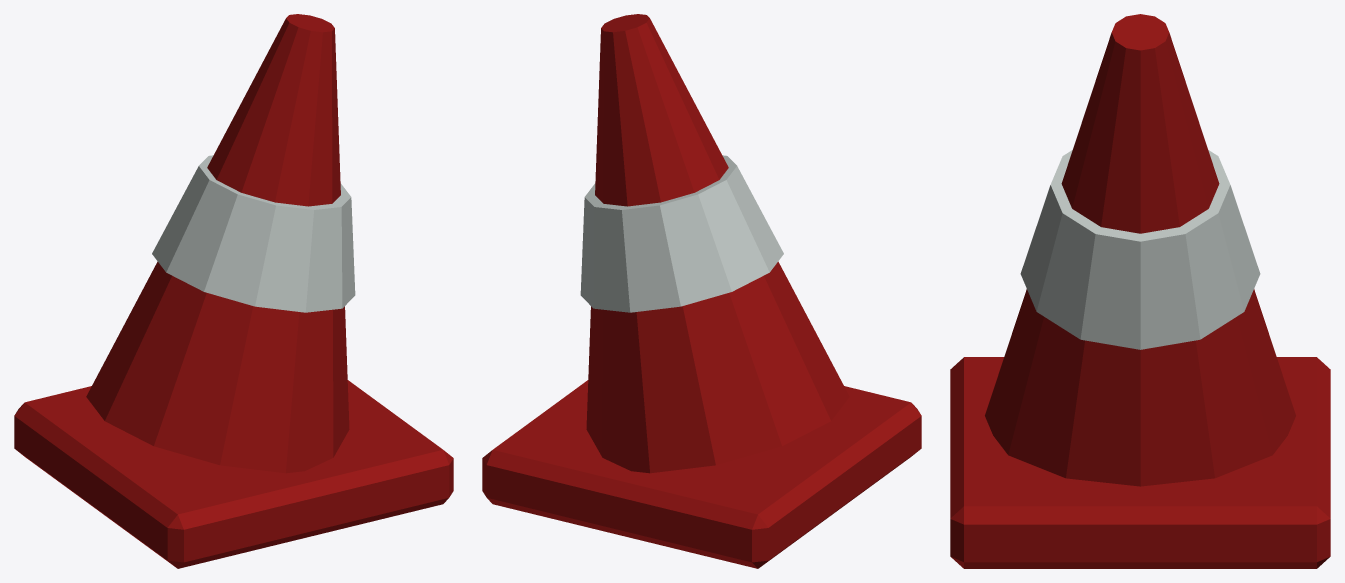
The model's file is BentTrafficCone.fbx.
3 views of the same model, side by side, from view 1: azimuth 30°, elevation 25°; view 2: azimuth 150°, elevation 25°; view 3: azimuth 270°, elevation 25° (orthographic). The views are drawn at different scales.
Visible parts, largest first — view 1: BentTrafficCone; view 2: BentTrafficCone; view 3: BentTrafficCone.
Part boxes in pixels (box(x1,y1,x2,y2)): BentTrafficCone: box(14, 14, 453, 568); BentTrafficCone: box(482, 14, 921, 568); BentTrafficCone: box(950, 14, 1330, 568).
Size of the model in its own units: 33 by 48.95 by 33.
1 material, 1 textured.
